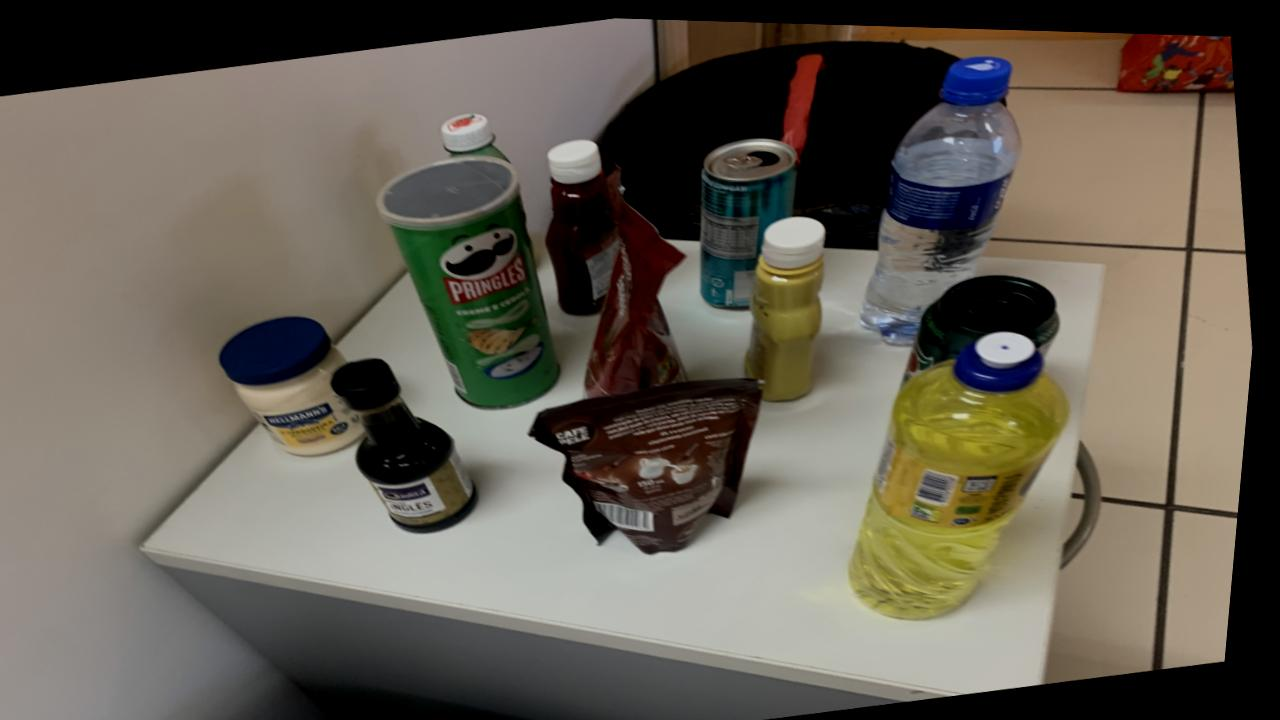Coffee-Pantry_Items: (536, 372, 768, 549)
Detergent-Cleanup_Items: (859, 324, 1077, 612)
English_Sauce-Pantry_Items: (337, 355, 486, 530)
Guarana-Drinks: (444, 109, 512, 158)
Guarana_Can-Drinks: (910, 268, 1065, 377)
Ketchup-Pantry_Items: (550, 134, 624, 311)
Mayonnaise-Pantry_Items: (226, 314, 372, 453)
Mustard-Pantry_Items: (752, 211, 830, 396)
Pringles-Snacks: (379, 151, 566, 405)
Tea-Drinks: (702, 132, 802, 304)
Tomato_Sauce-Pantry_Items: (592, 168, 693, 393)
Water_Bottle-Drinks: (866, 49, 1024, 338)
